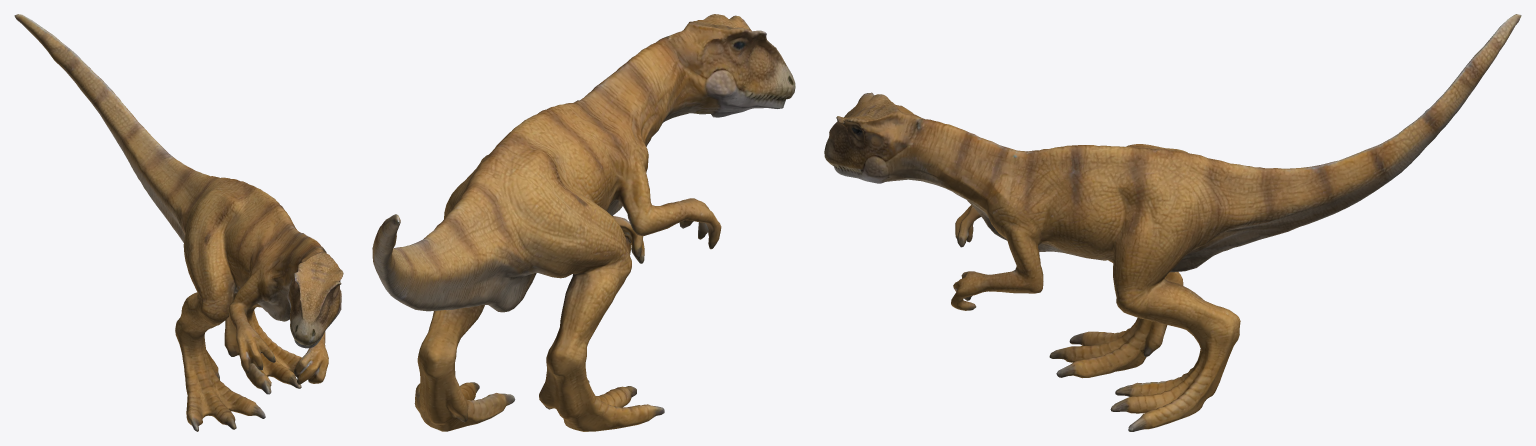
File: Schleich_Allosaurus.glb
The picture shows the model from 3 angles, left to right: view 1: azimuth 30°, elevation 25°; view 2: azimuth 150°, elevation 25°; view 3: azimuth 270°, elevation 25°; orthographic projection. The views are drawn at different scales.
Parts seen in each view (by area): view 1: model.obj; view 2: model.obj; view 3: model.obj.
Part boxes in pixels (left/top/right/bottom): model.obj: left=14, top=14, right=343, bottom=431; model.obj: left=372, top=14, right=795, bottom=431; model.obj: left=824, top=14, right=1521, bottom=431.
Bounding box in the file's own units: 0.3021 × 0.5312 × 1.
1 material, 1 textured.
